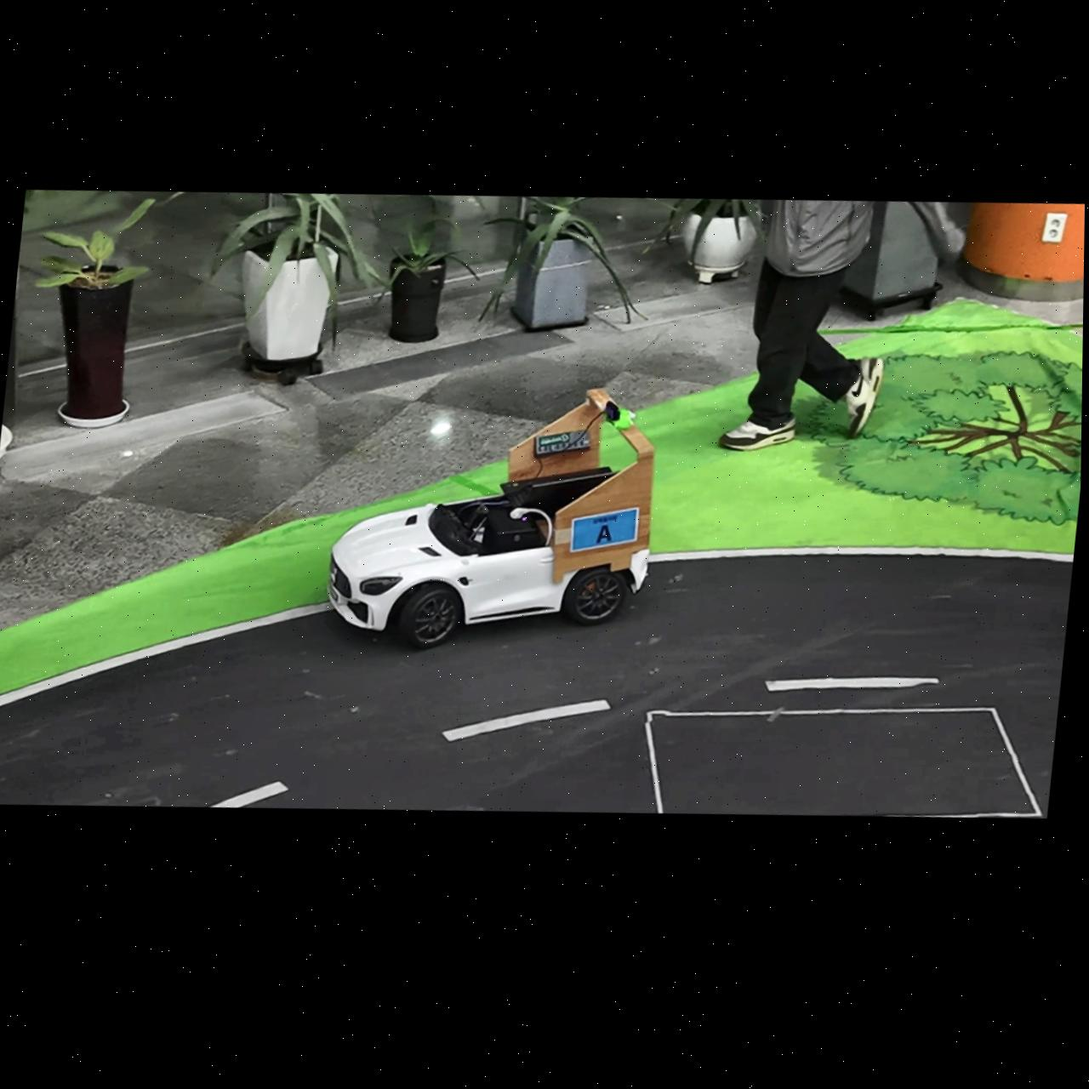broken_line: (441, 699, 612, 742), (766, 677, 939, 691), (210, 781, 289, 807)
